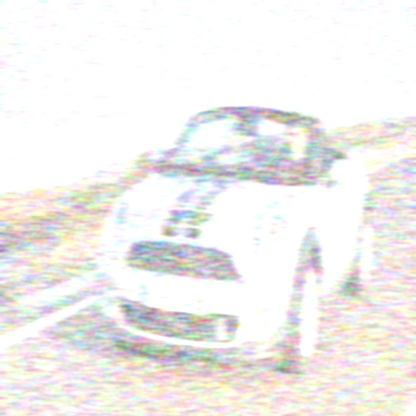Vehicle: (97, 106, 372, 376)
